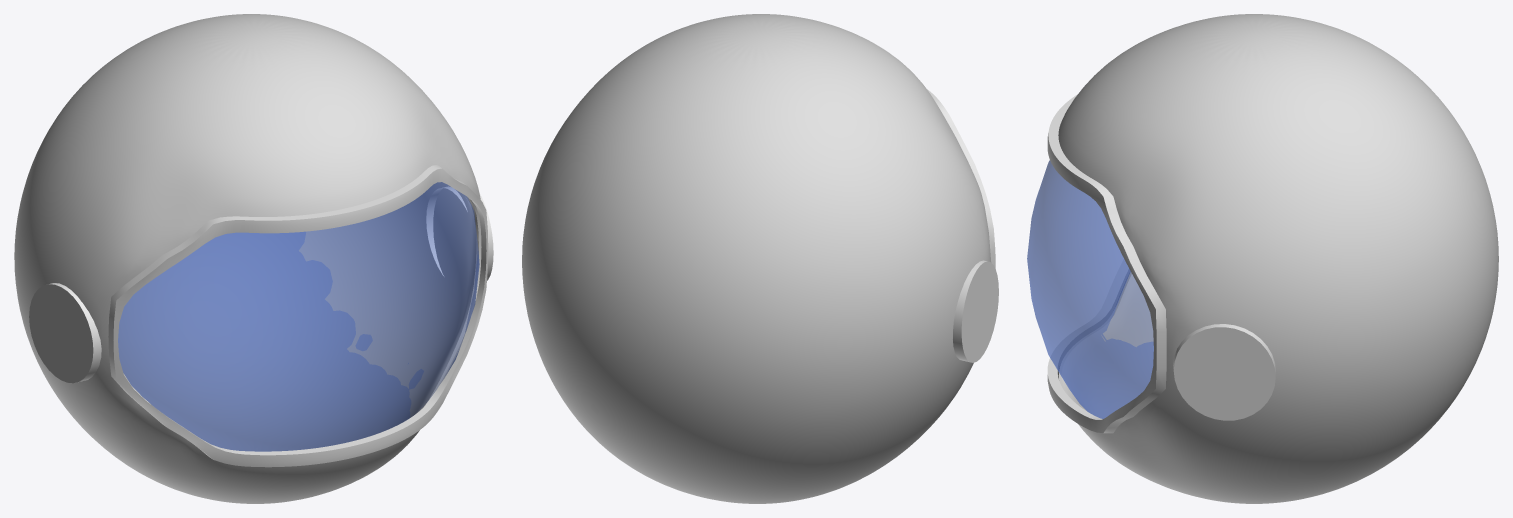
Rendered from AstronautHelmet.fbx.
3 renders of one model, left to right at view 1: azimuth 30°, elevation 25°; view 2: azimuth 150°, elevation 25°; view 3: azimuth 270°, elevation 25°, orthographic.
Visible parts, largest first — view 1: Helmet, Glass, Side; view 2: Helmet, Side; view 3: Helmet, Glass, Side.
Boxes of the visible parts, <box> form: Helmet: <box>14,14,488,503</box>; Glass: <box>118,182,479,451</box>; Side: <box>29,186,493,383</box>; Helmet: <box>522,14,995,503</box>; Side: <box>953,260,998,362</box>; Helmet: <box>1047,14,1498,503</box>; Glass: <box>1027,160,1153,418</box>; Side: <box>1173,324,1275,420</box>.
Size of the model in its own units: 131 by 131 by 125.
